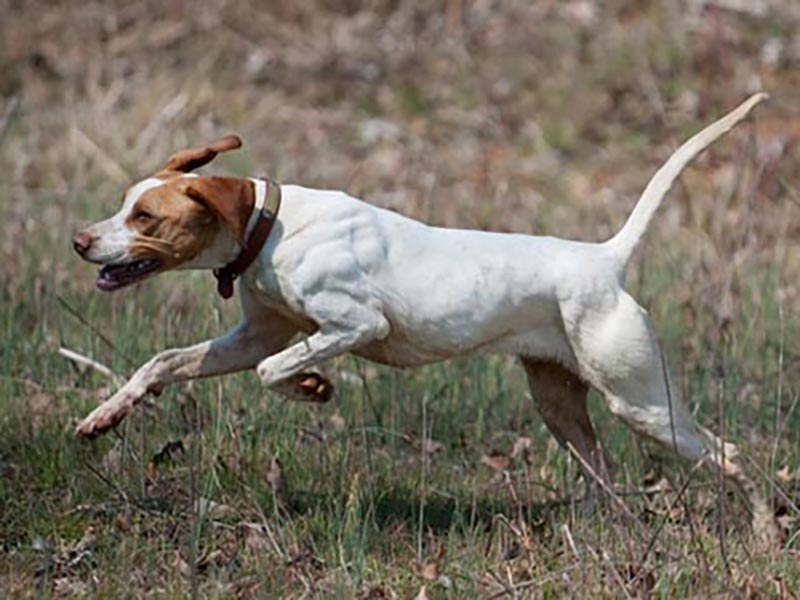cane da caccia: (66, 152, 762, 524)
